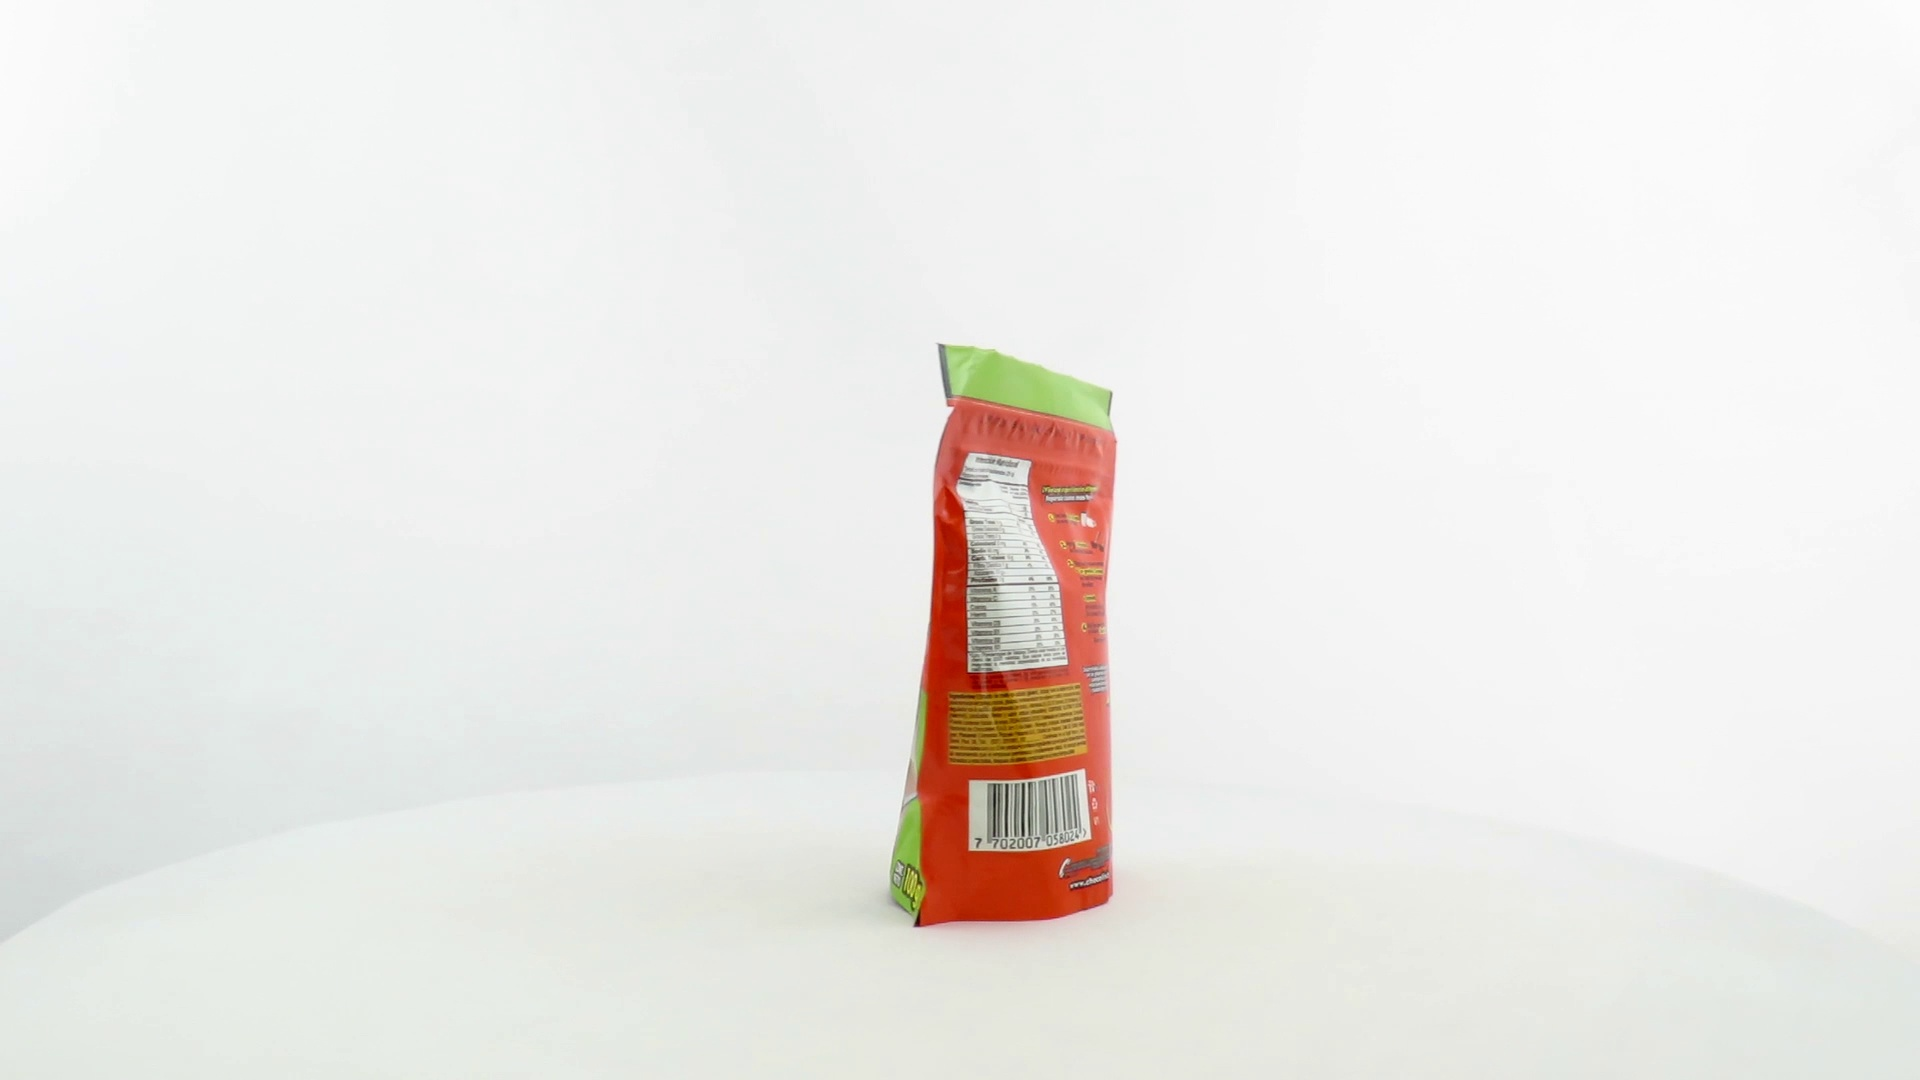COL0170102DYP10000: (881, 338, 1124, 934)
